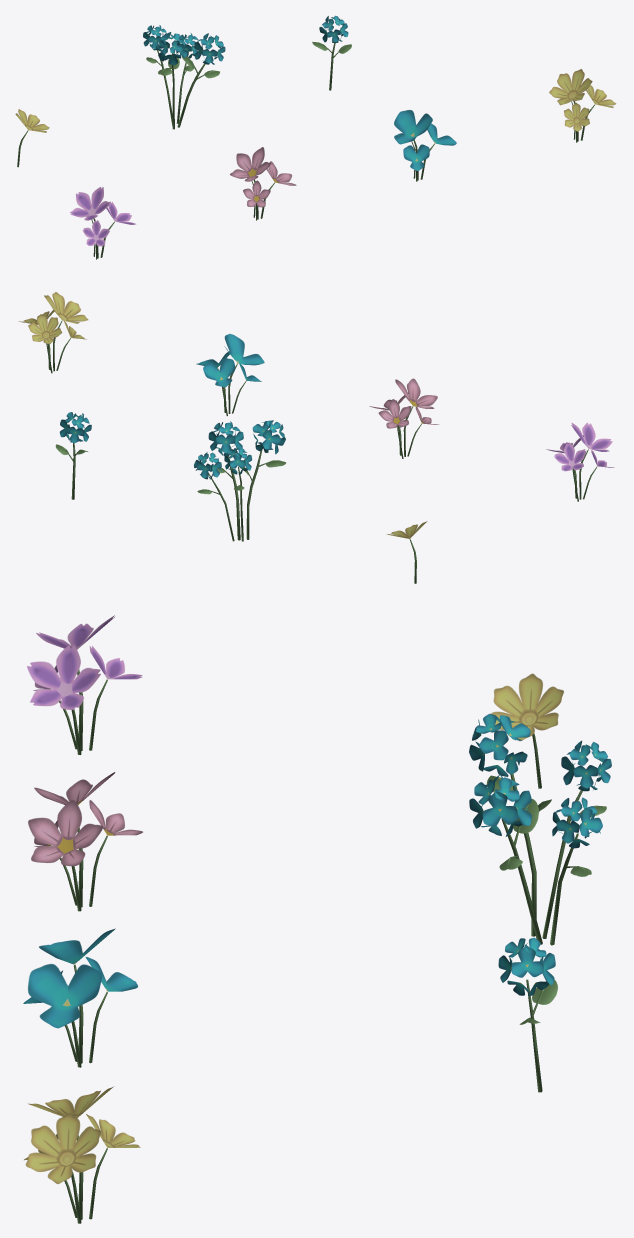
The model's file is Flowers.glb.
The picture shows the model from 3 angles, top to bottom: view 1: azimuth 30°, elevation 25°; view 2: azimuth 150°, elevation 25°; view 3: azimuth 270°, elevation 25°; orthographic projection. The views are drawn at different scales.
Parts seen in each view (by area): view 1: Flower_1_Clump, Flower_2_Clump, Flower_3_Clump, Flower_4_Clump, Flower_5_Clump, Flower_1, Flower_2; view 2: Flower_1_Clump, Flower_2_Clump, Flower_3_Clump, Flower_4_Clump, Flower_5_Clump, Flower_1; view 3: Flower_1_Clump, Flower_2_Clump, Flower_3_Clump, Flower_4_Clump, Flower_5_Clump, Flower_2, Flower_1.
Part boxes in pixels (x1,y1,x2,y2): Flower_1_Clump: (143, 25, 225, 129); Flower_2_Clump: (549, 69, 616, 142); Flower_3_Clump: (394, 110, 456, 181); Flower_4_Clump: (230, 147, 296, 220); Flower_5_Clump: (70, 187, 135, 259); Flower_1: (312, 15, 351, 90); Flower_2: (15, 109, 49, 167); Flower_1_Clump: (194, 420, 286, 541); Flower_2_Clump: (19, 292, 88, 373); Flower_3_Clump: (196, 334, 264, 415); Flower_4_Clump: (369, 378, 438, 458); Flower_5_Clump: (546, 422, 614, 501); Flower_1: (55, 412, 91, 499); Flower_1_Clump: (469, 713, 611, 945); Flower_2_Clump: (24, 1086, 140, 1223); Flower_3_Clump: (23, 928, 137, 1067); Flower_4_Clump: (28, 772, 142, 911); Flower_5_Clump: (27, 615, 142, 754); Flower_2: (491, 673, 563, 788); Flower_1: (498, 937, 557, 1092).
Bounding box in the file's own units: 3.59 × 0.6742 × 1.71.
1 material, 1 textured.
